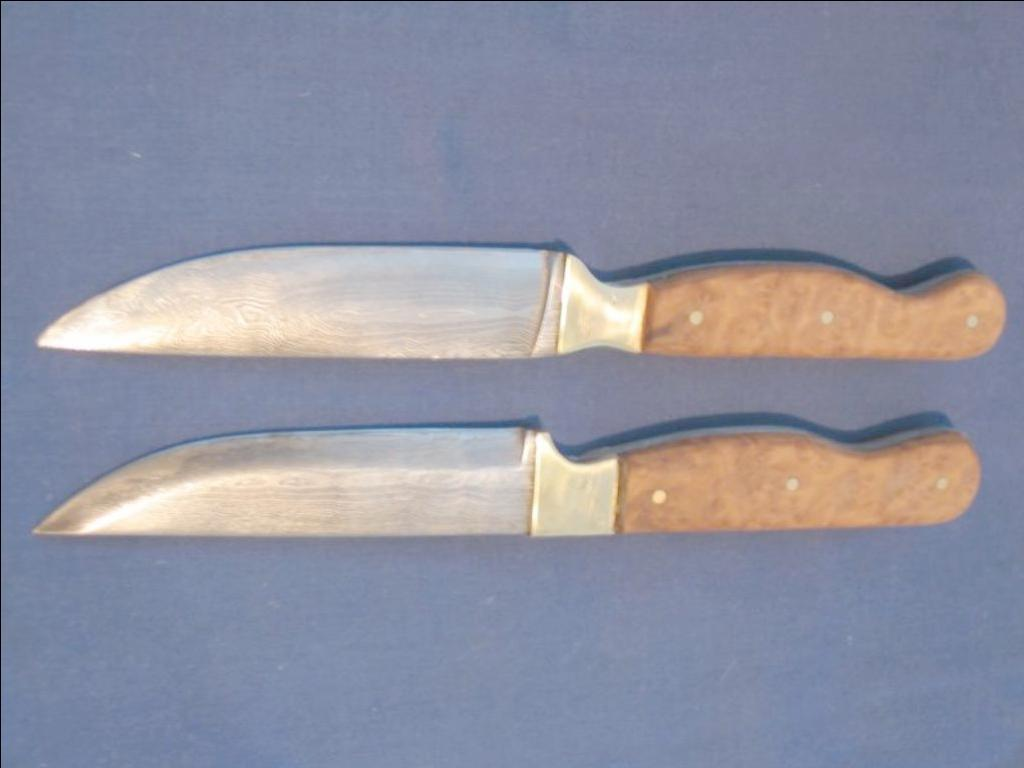melee: (32, 228, 1017, 376), (24, 412, 980, 546)
